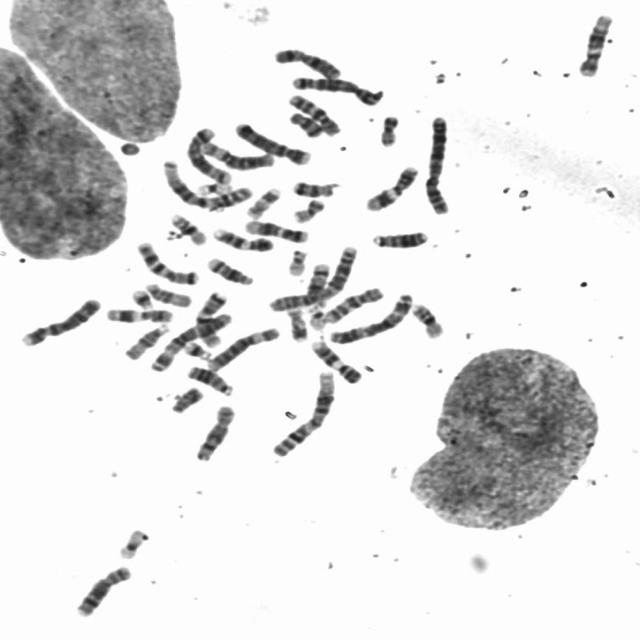A1: (265, 364, 339, 458), (156, 154, 254, 212)
A2: (262, 239, 362, 313), (419, 109, 454, 216)
A3: (144, 308, 234, 372), (324, 288, 416, 344)
B4: (15, 292, 103, 347), (229, 116, 314, 166)
B5: (286, 71, 386, 106), (180, 122, 234, 186)
C10: (318, 280, 386, 326), (282, 88, 344, 137)
C11: (359, 160, 422, 212), (101, 302, 175, 324)
C12: (572, 8, 616, 78), (239, 214, 311, 244)
C6: (202, 321, 282, 373), (195, 136, 278, 171)
C7: (130, 236, 201, 286), (190, 286, 231, 348)
C8: (70, 560, 134, 618), (189, 400, 239, 463)
C9: (305, 334, 364, 384), (207, 222, 275, 252)
D13: (182, 359, 236, 396), (366, 224, 431, 250)
D14: (200, 252, 256, 286), (302, 258, 332, 310)
D15: (120, 318, 172, 361), (140, 277, 194, 308)
E16: (406, 296, 447, 340), (164, 208, 208, 246)
E17: (240, 181, 284, 220), (377, 113, 403, 150)
E18: (283, 106, 324, 138), (286, 175, 340, 198)
F19: (112, 523, 150, 560), (192, 176, 232, 197)
F20: (287, 193, 328, 223), (281, 302, 310, 342)
G21: (178, 336, 214, 360), (126, 284, 156, 310)
G22: (281, 244, 310, 277), (300, 300, 329, 331)
X: (268, 42, 345, 79)
Y: (165, 381, 206, 415)
